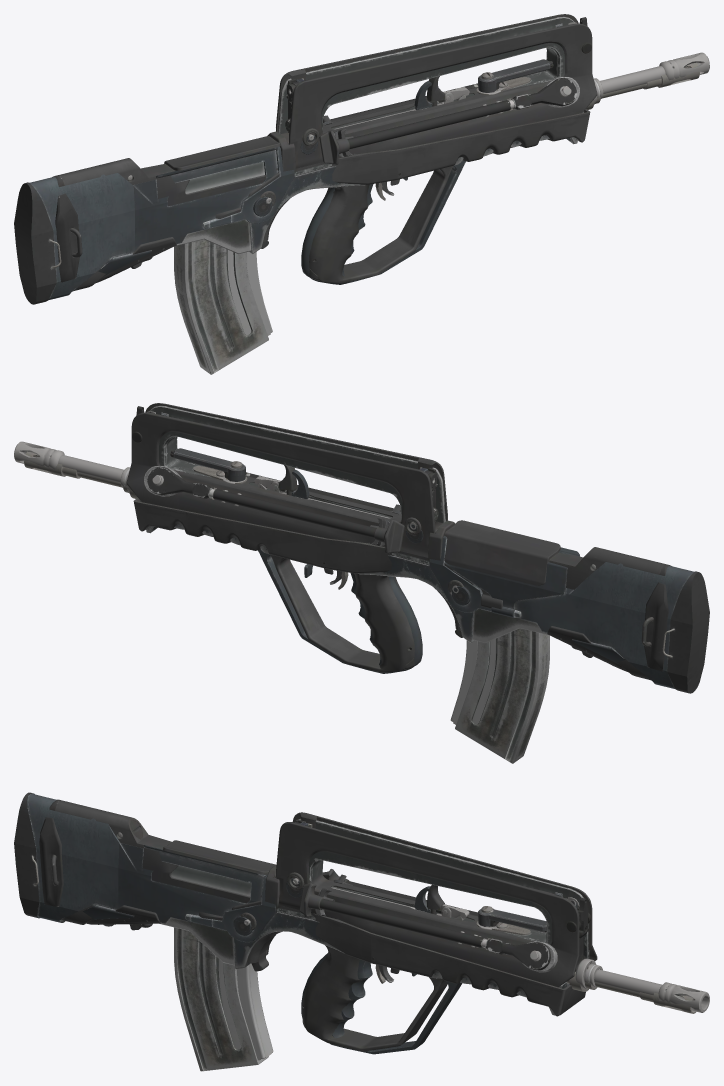
The picture shows the model from 3 angles, top to bottom: view 1: azimuth 30°, elevation 25°; view 2: azimuth 150°, elevation 25°; view 3: azimuth 330°, elevation 25°; orthographic projection.
Visible parts, largest first — view 1: weapon_rif_famas.vmdl_c.body_hd, weapon_rif_famas.vmdl_c.body_legacy; view 2: weapon_rif_famas.vmdl_c.body_hd, weapon_rif_famas.vmdl_c.body_legacy; view 3: weapon_rif_famas.vmdl_c.body_hd, weapon_rif_famas.vmdl_c.body_legacy.
Part boxes in pixels (x1,y1,x2,y2): weapon_rif_famas.vmdl_c.body_hd: (52, 14, 709, 335); weapon_rif_famas.vmdl_c.body_legacy: (14, 16, 699, 374); weapon_rif_famas.vmdl_c.body_hd: (14, 403, 670, 724); weapon_rif_famas.vmdl_c.body_legacy: (24, 405, 709, 763); weapon_rif_famas.vmdl_c.body_hd: (39, 799, 709, 1060); weapon_rif_famas.vmdl_c.body_legacy: (14, 792, 696, 1071).
Size of the model in its own units: 35.7 by 13.61 by 3.25.
Materials: 2 (2 with a texture image).
